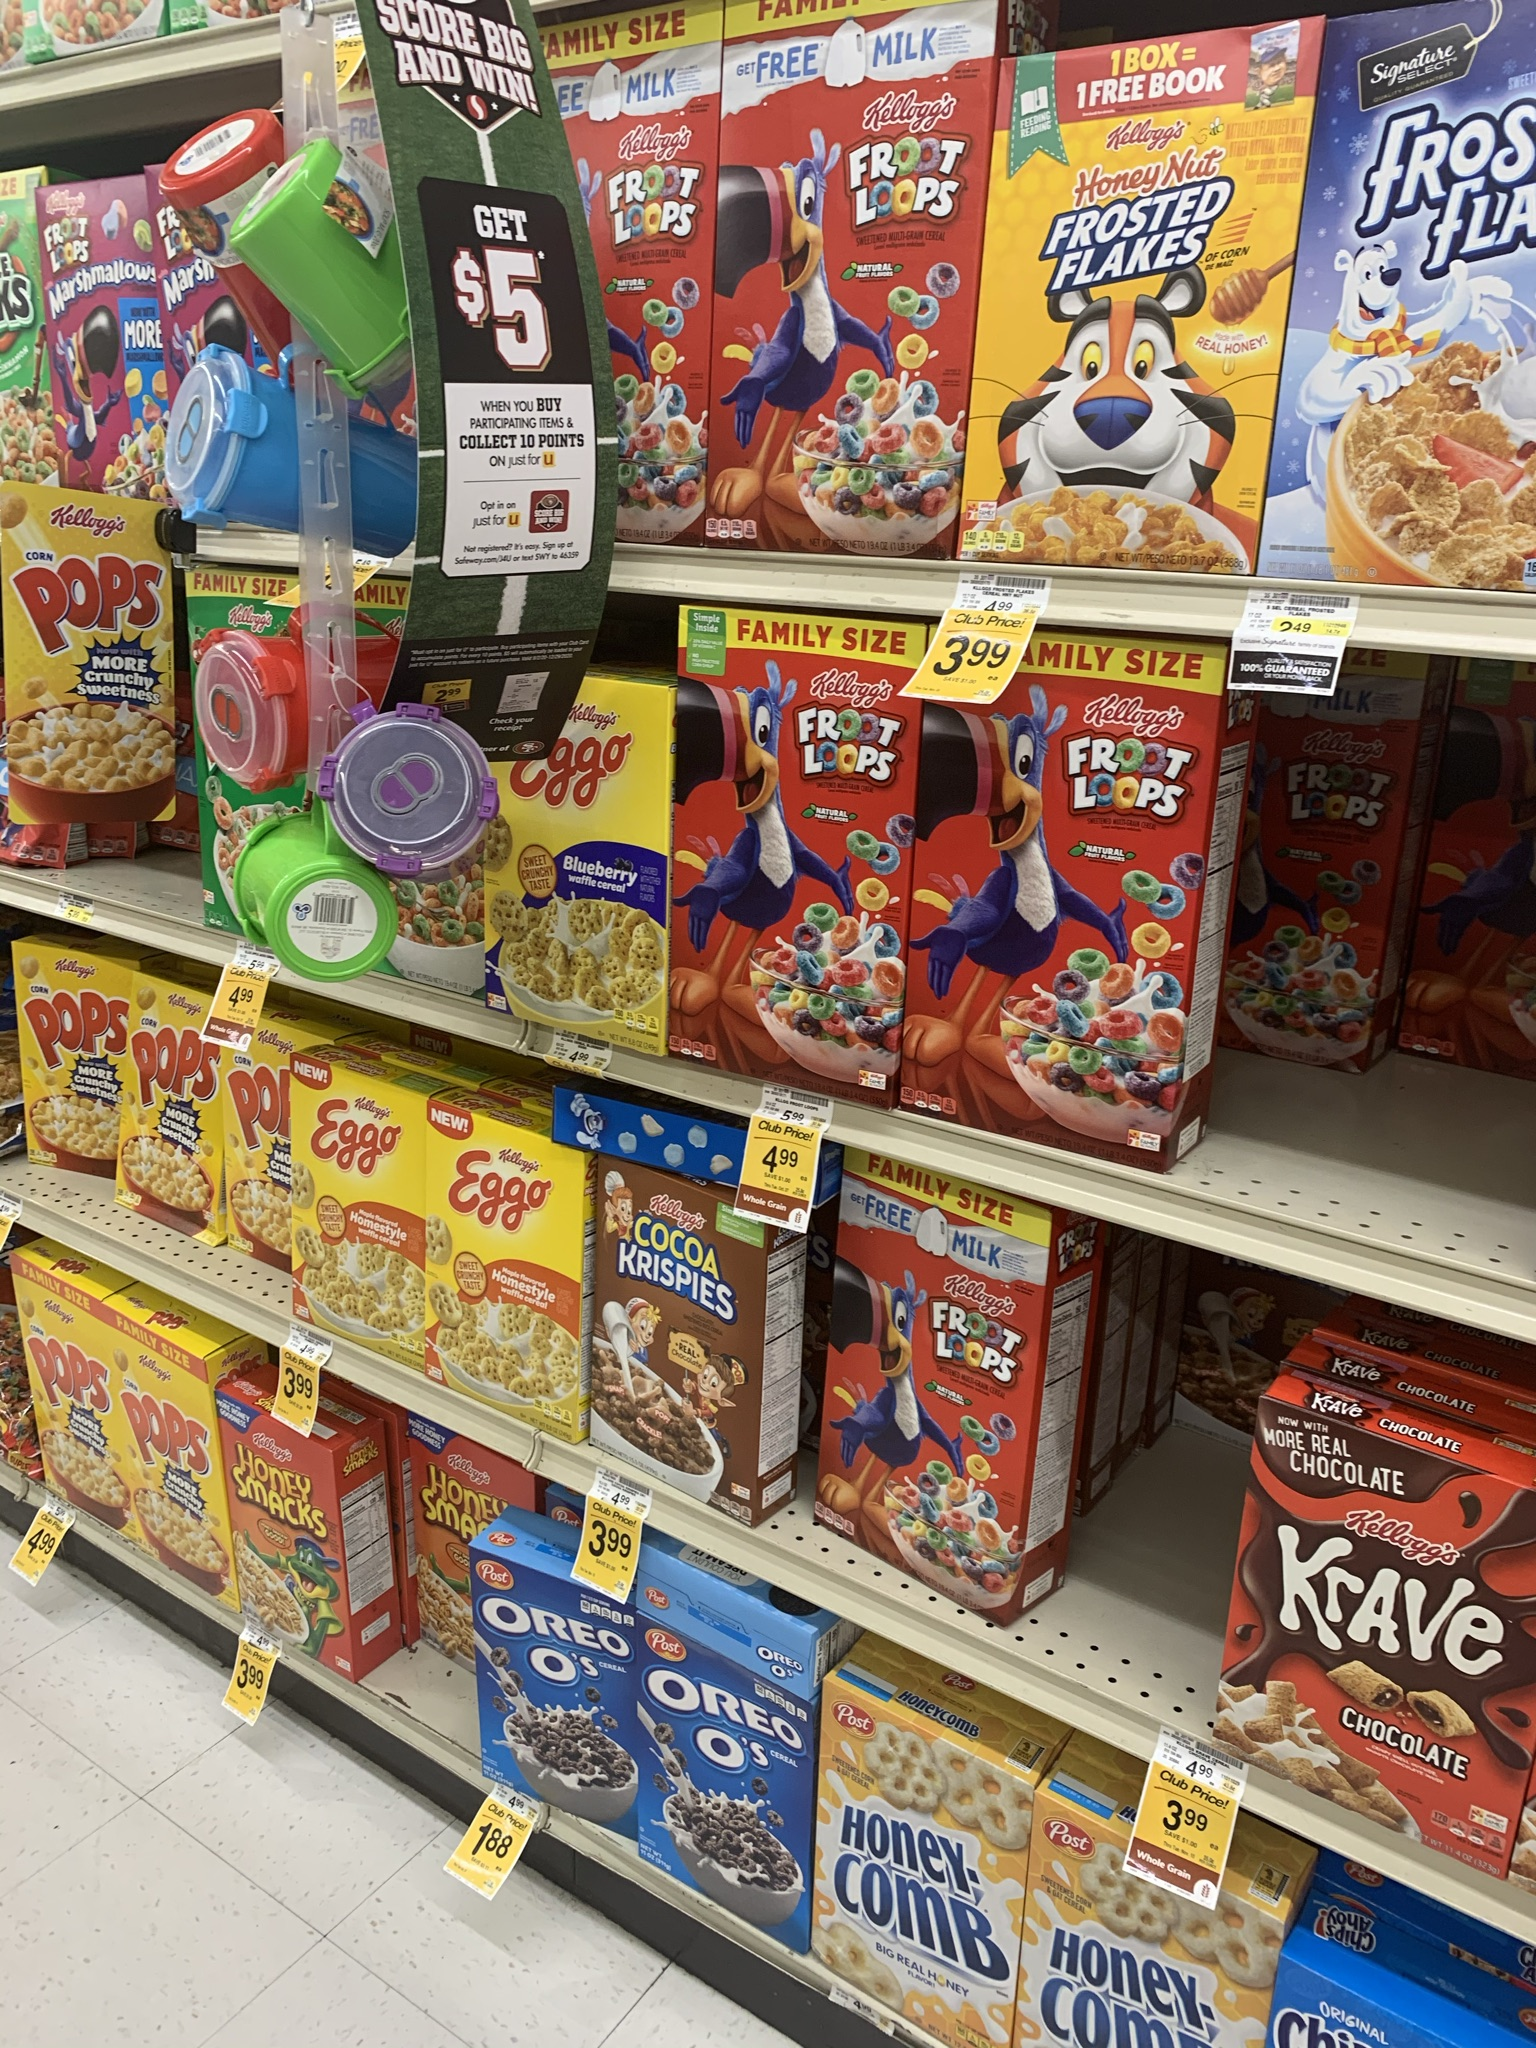cereal: (913, 600, 1197, 1164), (1000, 53, 1267, 585), (1300, 10, 1536, 598), (729, 21, 971, 555), (657, 581, 892, 1092), (837, 1150, 1039, 1625), (628, 1606, 818, 1974), (824, 1679, 1012, 2048), (15, 493, 181, 827), (461, 1538, 636, 1830), (586, 1209, 783, 1467), (39, 182, 190, 513), (445, 1114, 587, 1455), (287, 1066, 436, 1380), (98, 1306, 227, 1588), (2, 1266, 129, 1534), (2, 955, 123, 1168), (232, 1450, 352, 1659), (202, 1027, 303, 1268), (119, 997, 218, 1240)
